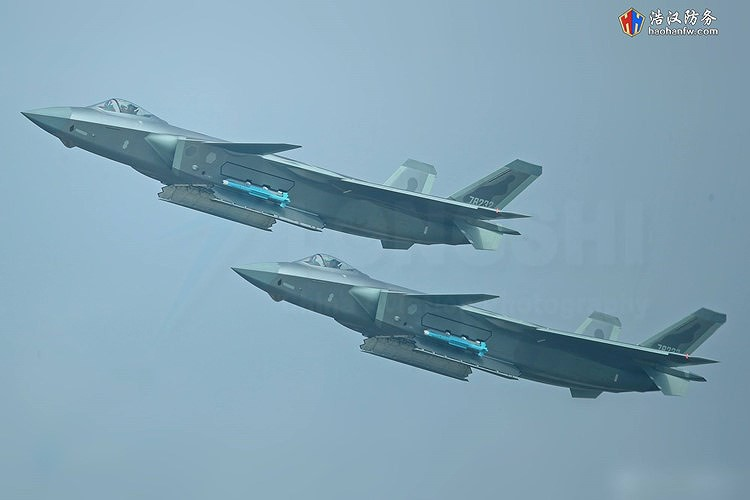J20: (20, 98, 543, 251), (230, 253, 727, 399)
